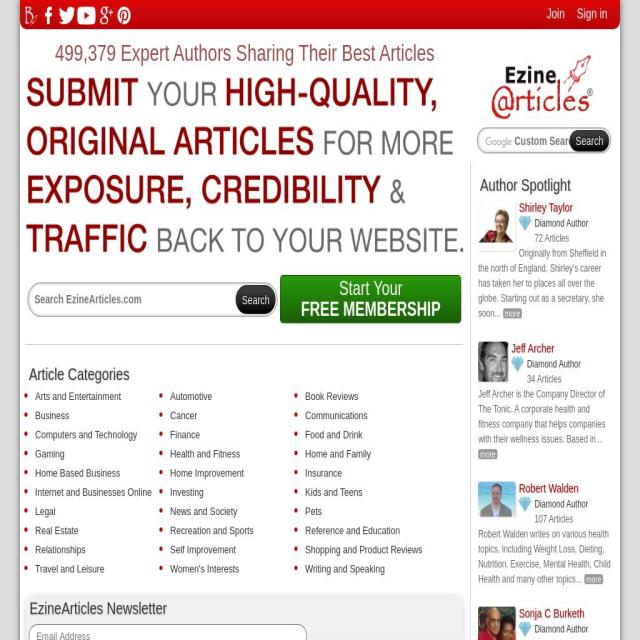button: (280, 275, 462, 324), (35, 386, 161, 406), (170, 386, 296, 406), (305, 386, 431, 406), (35, 406, 161, 426), (170, 406, 296, 426), (305, 406, 431, 426), (35, 425, 161, 445), (170, 425, 296, 445), (305, 425, 431, 445), (35, 444, 161, 464), (170, 444, 296, 464), (305, 444, 431, 464), (35, 464, 161, 484), (170, 464, 296, 484), (305, 464, 431, 484), (35, 482, 161, 502), (170, 482, 296, 502), (305, 482, 431, 502), (35, 502, 161, 522), (170, 502, 296, 522), (305, 502, 431, 522), (35, 521, 161, 541), (170, 521, 296, 541), (305, 521, 431, 541), (35, 540, 161, 560), (170, 540, 296, 560), (305, 540, 431, 560), (35, 559, 161, 579), (170, 559, 296, 579), (305, 559, 431, 579), (478, 200, 516, 252), (478, 481, 516, 517), (478, 606, 516, 640), (478, 341, 509, 382), (236, 285, 276, 315), (570, 130, 610, 152), (502, 308, 522, 320), (478, 448, 498, 459), (584, 574, 603, 584)
field: (35, 284, 222, 312), (29, 624, 307, 640), (484, 129, 597, 149)
heading: (29, 362, 464, 388), (29, 596, 319, 622), (480, 172, 614, 198), (519, 607, 585, 621), (519, 481, 579, 495), (519, 201, 573, 215), (511, 341, 555, 355)
image: (26, 77, 464, 253), (489, 54, 595, 120), (478, 200, 516, 252), (478, 481, 516, 517), (478, 606, 516, 640), (478, 341, 509, 382), (76, 5, 97, 26), (23, 5, 39, 26), (41, 5, 57, 26), (58, 5, 74, 26), (98, 5, 114, 26), (116, 5, 132, 26), (519, 216, 532, 232), (519, 496, 532, 512), (519, 622, 532, 638), (512, 356, 524, 372)
link: (534, 623, 589, 636), (534, 218, 589, 230), (534, 498, 589, 510), (527, 358, 581, 370), (577, 7, 608, 21), (546, 7, 565, 21)
text: (26, 38, 464, 76), (478, 248, 607, 320), (478, 527, 611, 585), (478, 387, 606, 445), (301, 298, 441, 321), (339, 278, 403, 300), (534, 513, 574, 525), (534, 233, 570, 245), (527, 373, 562, 385), (534, 638, 570, 640)
